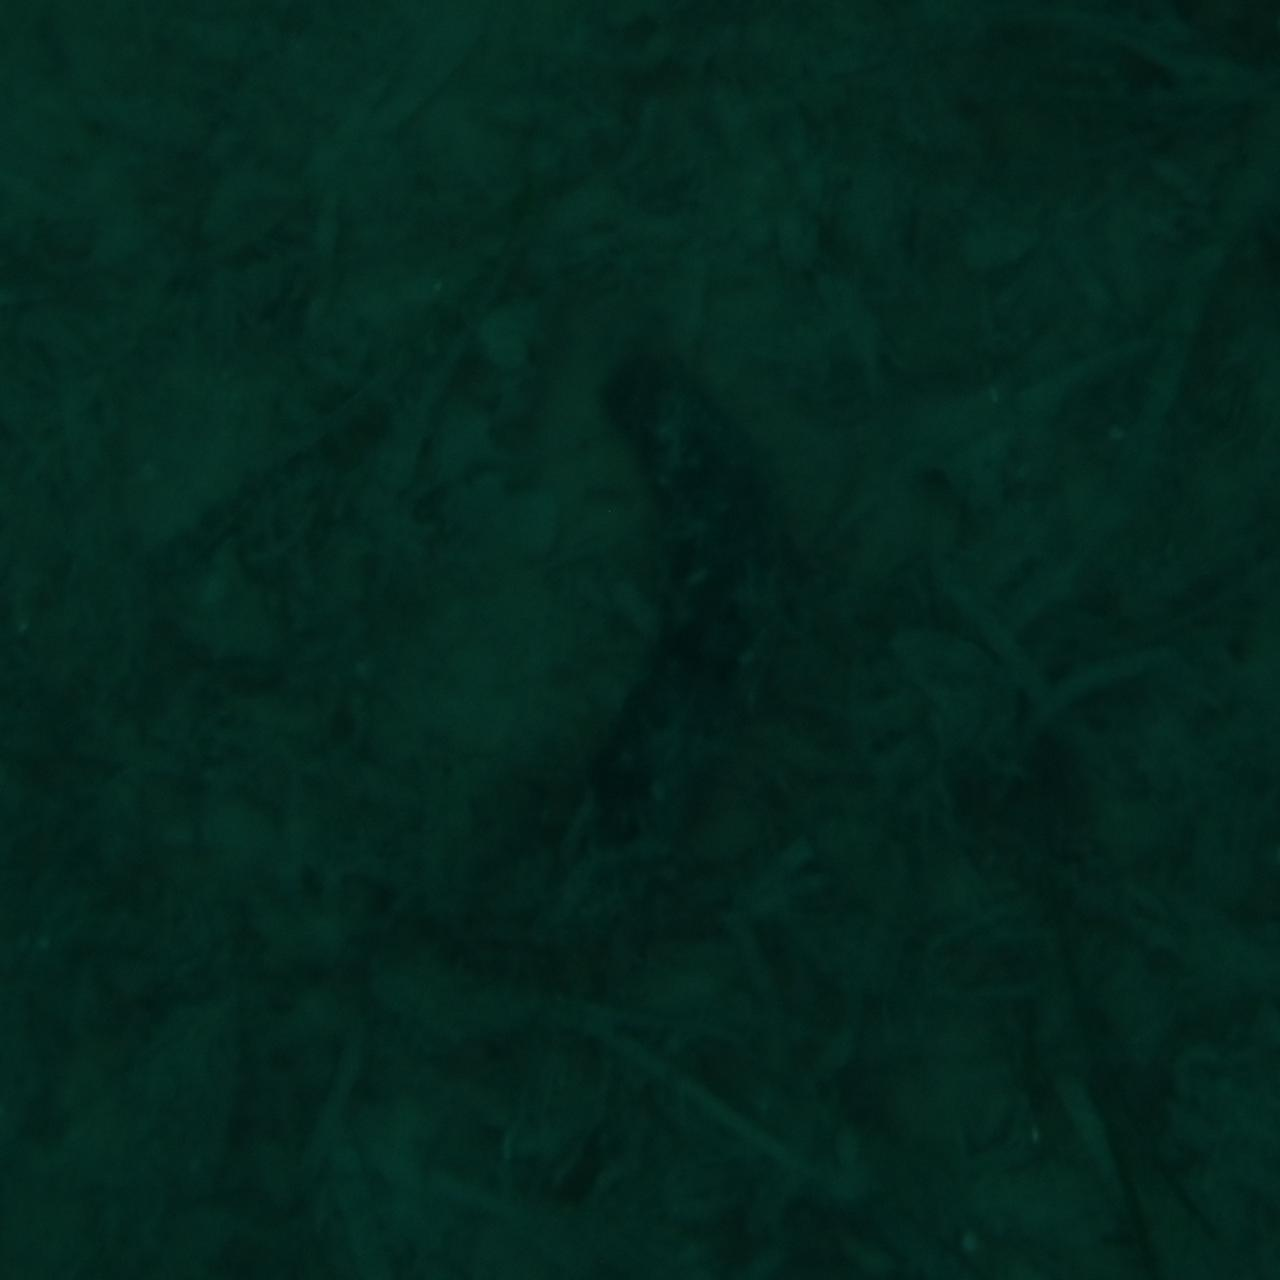Holothuria tubulosa: (503, 338, 777, 942)
